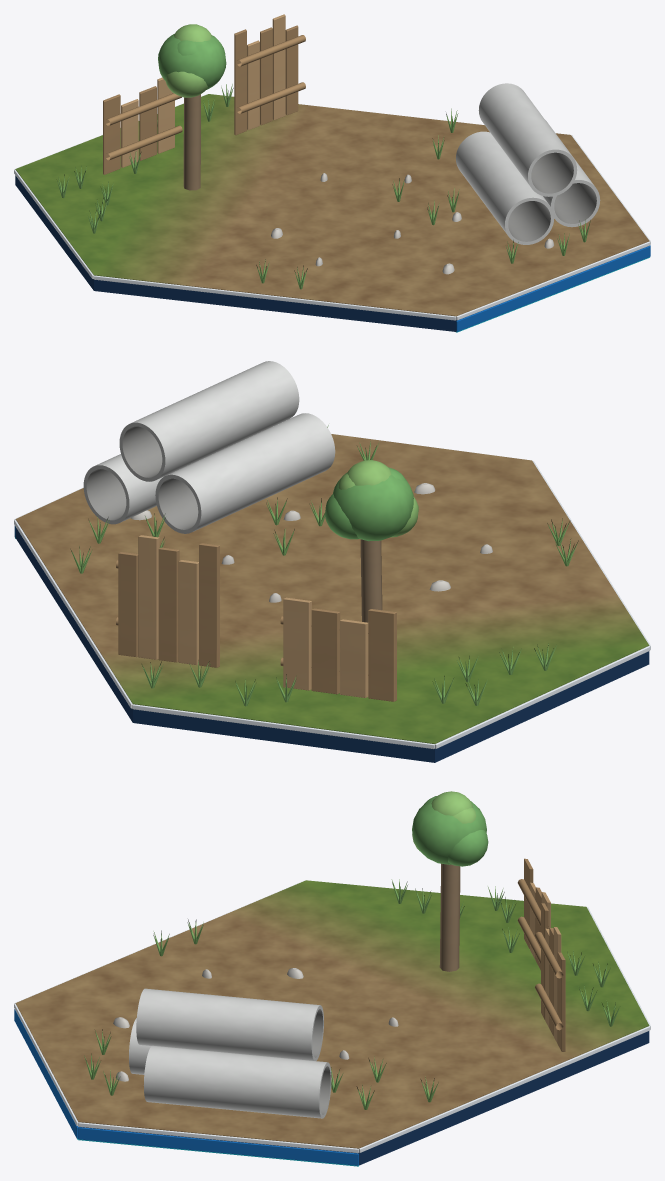
The model's file is field_cm01_01.glb.
The picture shows the model from 3 angles, top to bottom: view 1: azimuth 30°, elevation 25°; view 2: azimuth 150°, elevation 25°; view 3: azimuth 270°, elevation 25°; orthographic projection. The views are drawn at different scales.
Visible parts, largest first — view 1: field_cm01_01-static, field_cm01_01-canopy, field_cm01_01-grass; view 2: field_cm01_01-static, field_cm01_01-canopy, field_cm01_01-grass; view 3: field_cm01_01-static, field_cm01_01-canopy, field_cm01_01-grass.
Boxes of the visible parts, left/top/right/bottom form: field_cm01_01-static: left=14, top=14, right=650, bottom=332; field_cm01_01-canopy: left=158, top=24, right=226, bottom=97; field_cm01_01-grass: left=57, top=84, right=590, bottom=289; field_cm01_01-static: left=14, top=361, right=650, bottom=762; field_cm01_01-canopy: left=325, top=460, right=418, bottom=541; field_cm01_01-grass: left=70, top=425, right=578, bottom=706; field_cm01_01-static: left=14, top=858, right=650, bottom=1166; field_cm01_01-canopy: left=412, top=791, right=488, bottom=866; field_cm01_01-grass: left=84, top=879, right=619, bottom=1109.
Size of the model in its own units: 7.87 by 2.64 by 7.87.
3 materials, 3 textured.
